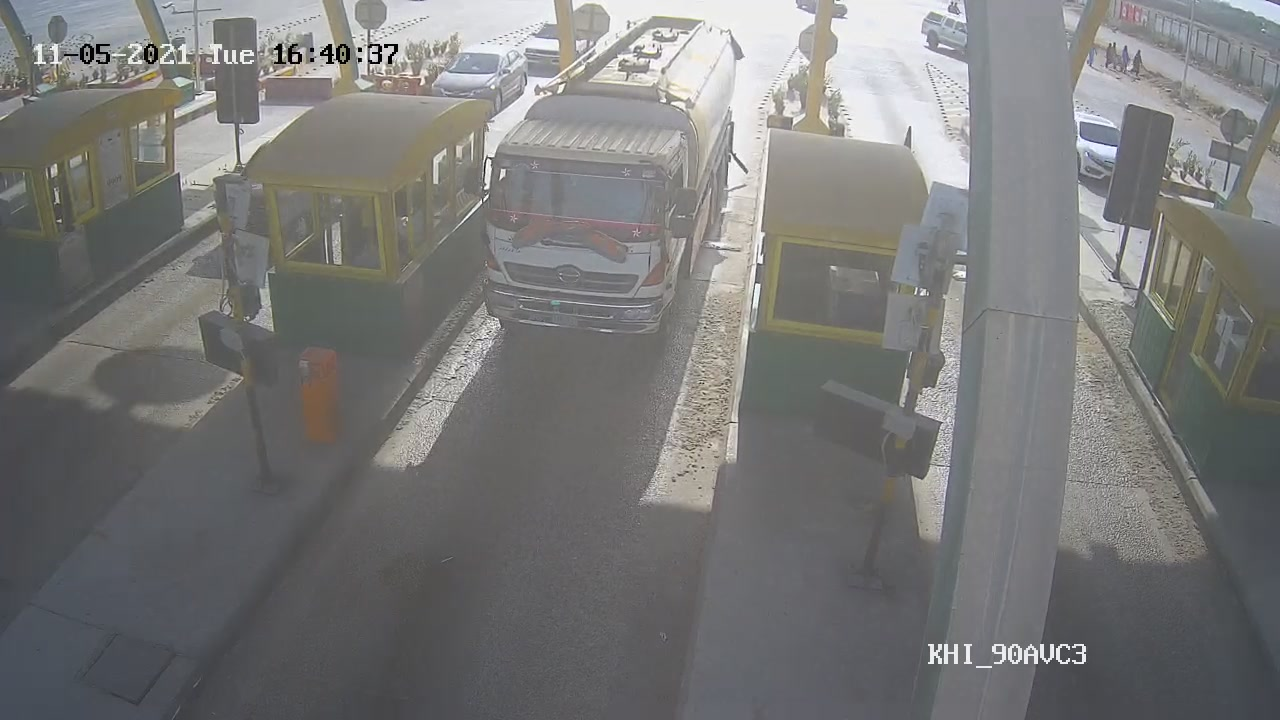F6: (480, 15, 745, 332)
